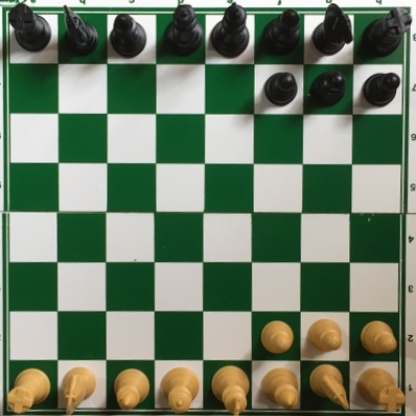black-bishop: (261, 8, 301, 57), (107, 13, 146, 57)
black-king: (209, 1, 251, 57)
black-knight: (313, 1, 355, 57), (57, 3, 99, 56)
black-pawn: (309, 67, 347, 108), (359, 69, 401, 106), (262, 68, 299, 106)
black-queen: (165, 3, 204, 60)
black-rook: (361, 2, 412, 55), (5, 2, 52, 52)
white-bishop: (114, 365, 152, 416), (260, 364, 301, 409)
white-king: (211, 364, 249, 416)
white-knight: (307, 361, 349, 411), (56, 367, 96, 416)
white-pawn: (359, 318, 397, 351), (306, 317, 342, 351), (259, 317, 292, 352)
white-queen: (158, 364, 201, 416)
white-rook: (1, 366, 52, 416), (355, 364, 404, 413)
